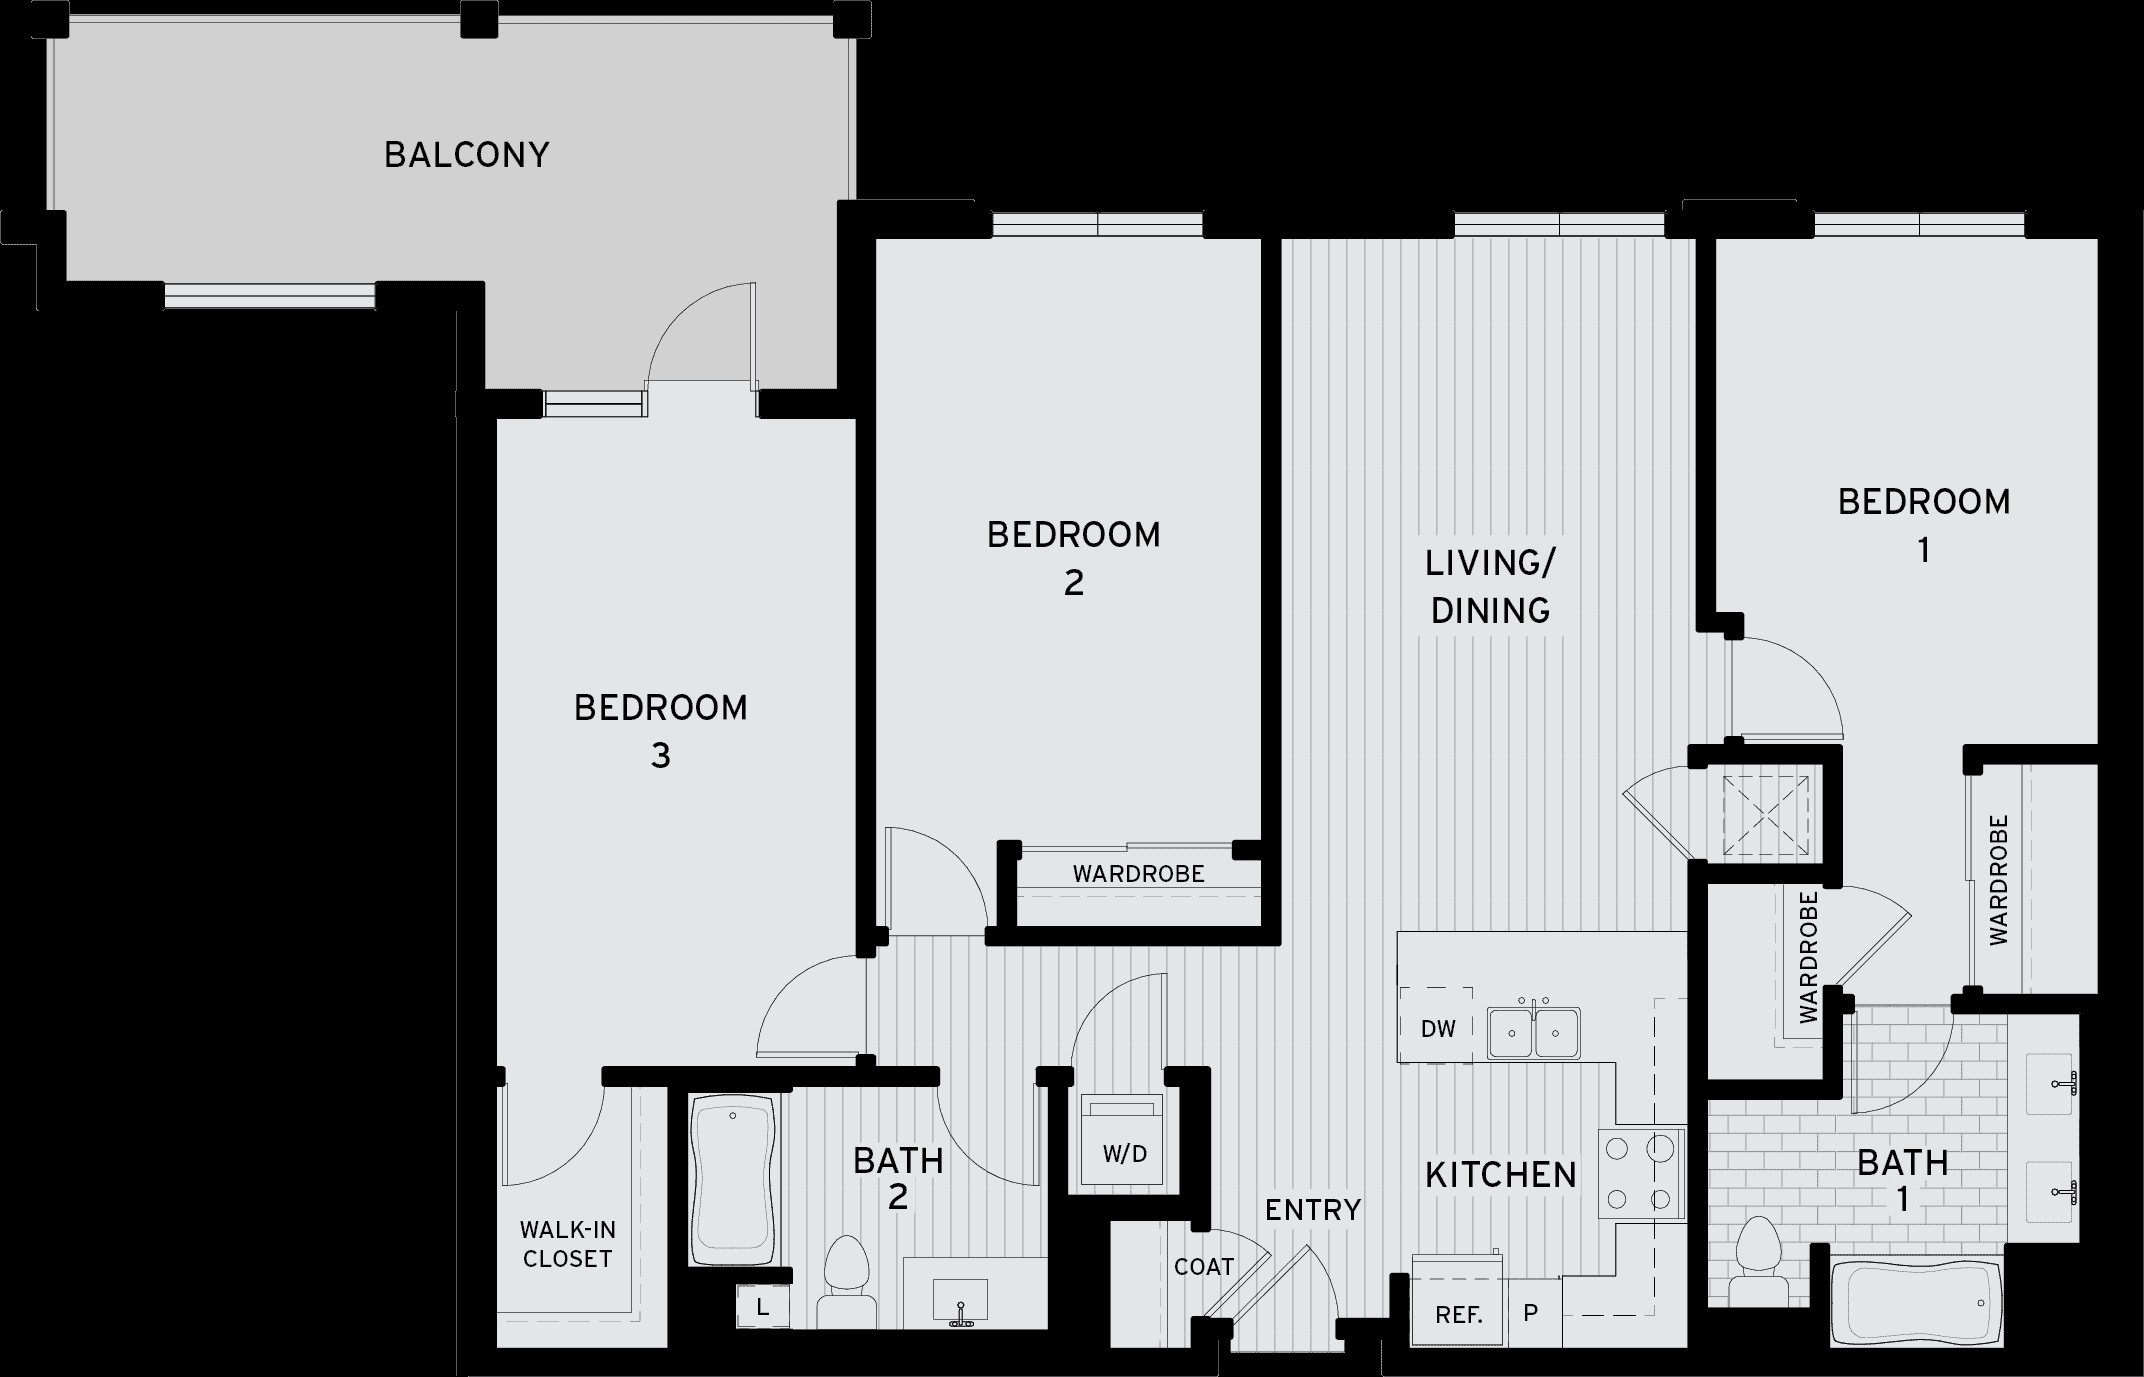door: (1219, 1219, 1350, 1321), (741, 949, 853, 1064), (1846, 1016, 1960, 1122), (1744, 628, 1852, 738), (502, 1093, 614, 1189), (931, 1096, 1042, 1193), (881, 817, 984, 919), (1059, 967, 1170, 1061), (652, 275, 766, 366), (1835, 886, 1922, 993), (1621, 763, 1685, 874)
